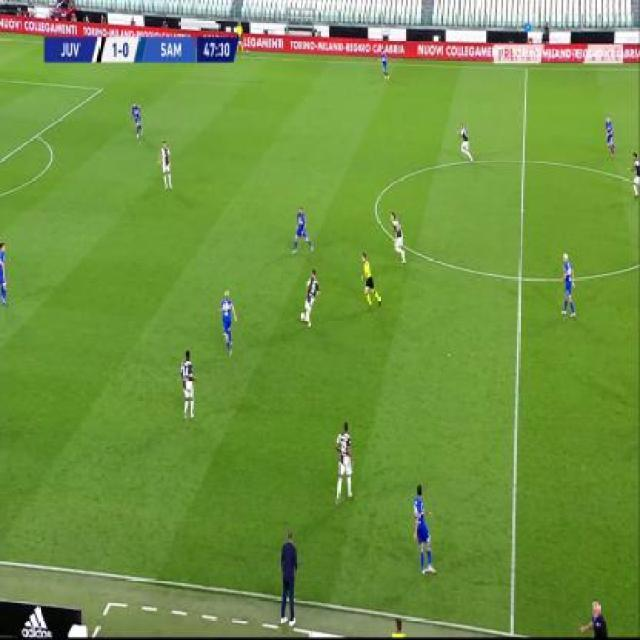ball: (299, 311, 307, 324)
player: (275, 523, 300, 628), (412, 481, 437, 577), (333, 417, 355, 508), (177, 349, 199, 420), (219, 288, 239, 357), (360, 248, 382, 310), (559, 249, 578, 320), (578, 599, 611, 639), (299, 269, 321, 329), (292, 204, 314, 257), (390, 209, 409, 266), (157, 138, 174, 191), (455, 120, 474, 163), (627, 148, 640, 201), (0, 236, 9, 310), (604, 112, 617, 157), (131, 99, 144, 139), (389, 615, 409, 640), (379, 47, 392, 83), (235, 20, 246, 56)
